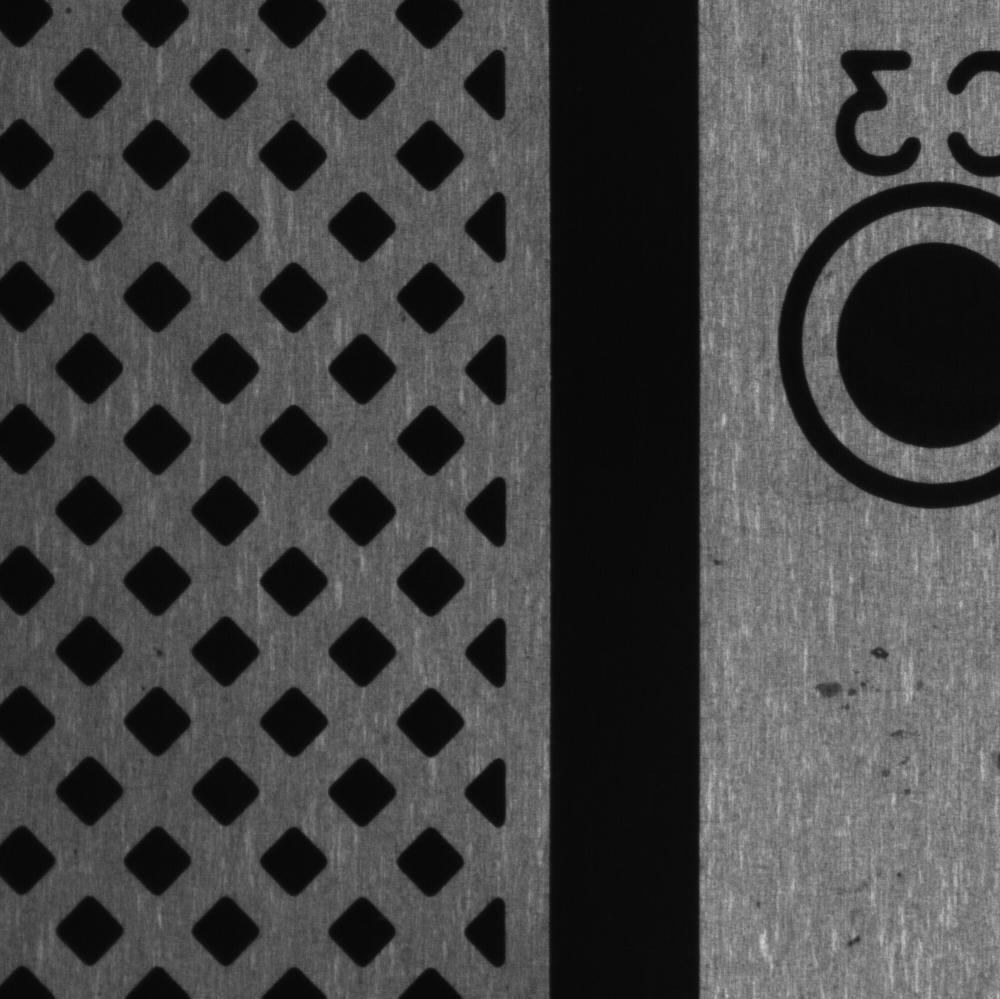Etching: (823, 855, 921, 961), (804, 634, 931, 710), (869, 715, 931, 807)
